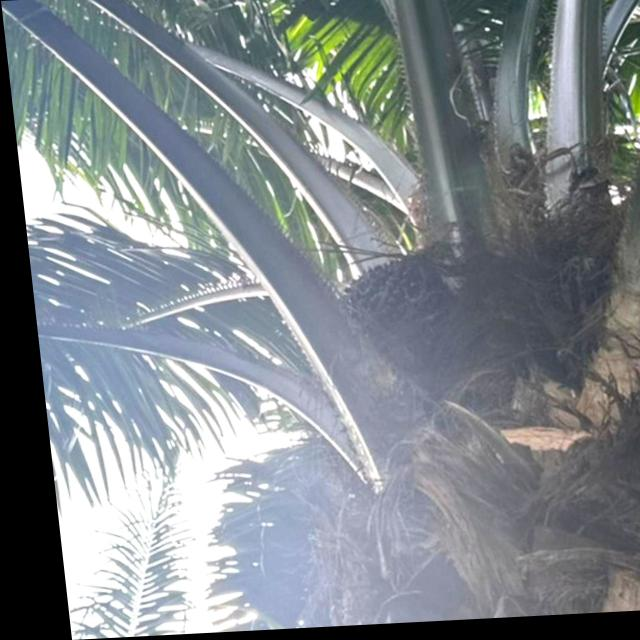unripe: (319, 253, 462, 412)
